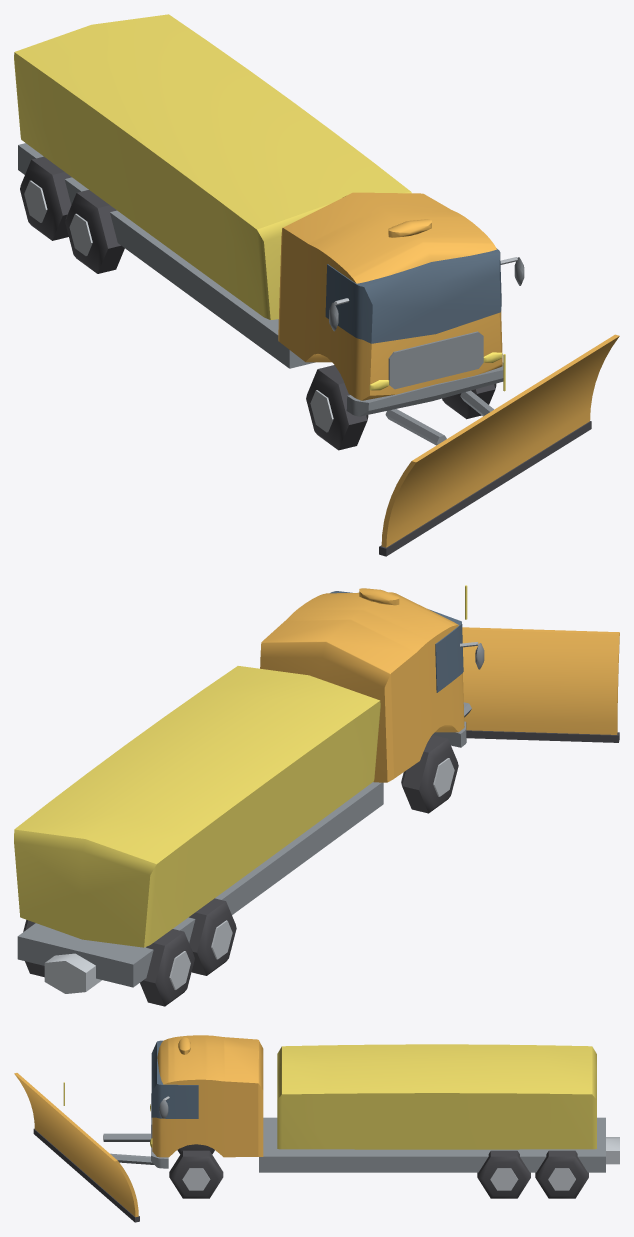
File: chasse_neige-BVf2qjN9.glb
3 views of the same model, one above another, from view 1: azimuth 30°, elevation 25°; view 2: azimuth 150°, elevation 25°; view 3: azimuth 270°, elevation 25° (orthographic). The views are drawn at different scales.
Visible parts, largest first — view 1: carrosserie, lame, roues; view 2: carrosserie, lame, roues; view 3: carrosserie, roues, lame.
Part boxes in pixels (x1=…): carrosserie: x1=14, y1=14, x2=524, y2=416; lame: x1=379, y1=334, x2=619, y2=556; roues: x1=20, y1=156, x2=496, y2=450; carrosserie: x1=14, y1=588, x2=484, y2=993; lame: x1=462, y1=585, x2=619, y2=742; roues: x1=23, y1=735, x2=458, y2=1006; carrosserie: x1=150, y1=1035, x2=619, y2=1172; roues: x1=169, y1=1144, x2=588, y2=1198; lame: x1=14, y1=1073, x2=154, y2=1222.
Bounding box in the file's own units: 4.79 × 3.25 × 13.09.
